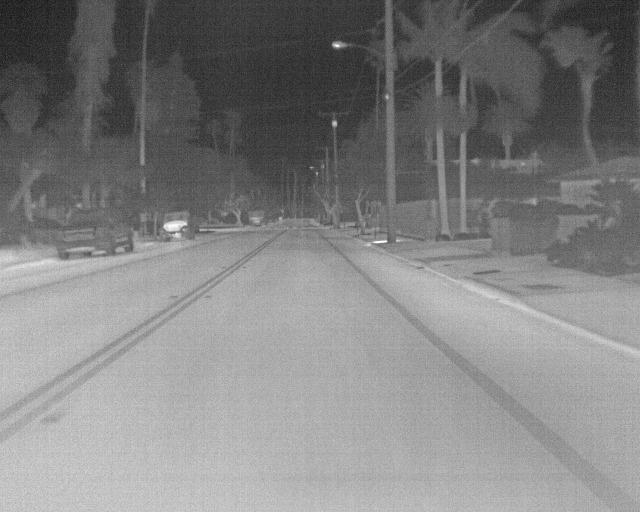car: (57, 204, 135, 258), (157, 212, 197, 242), (248, 210, 268, 226)
